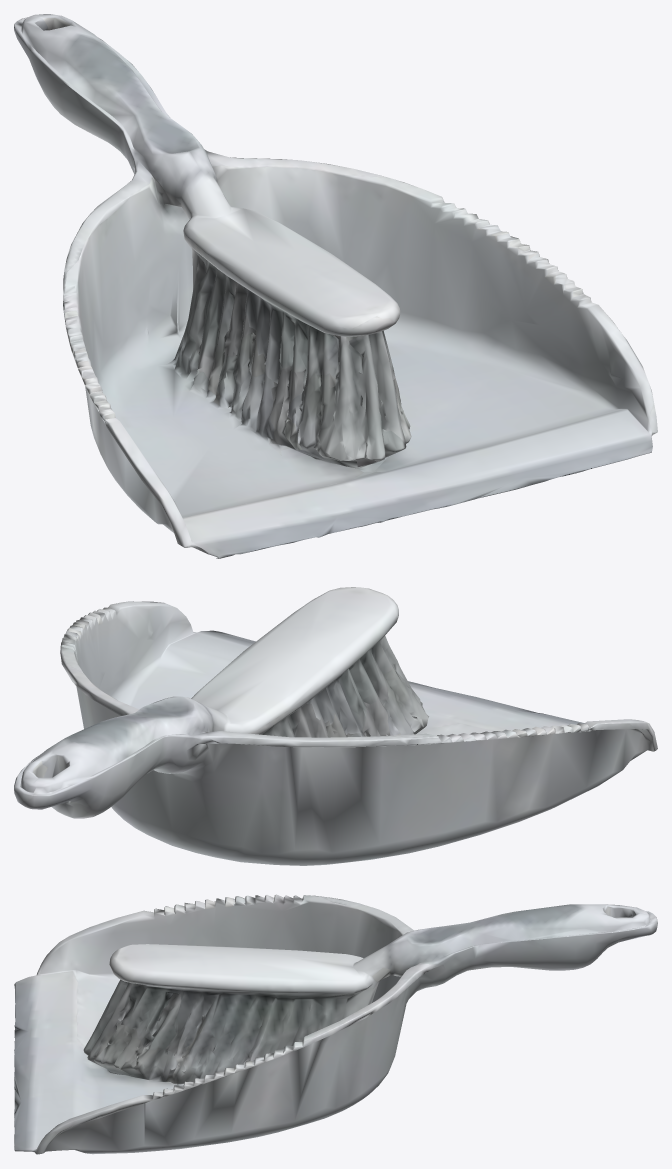
Rendered from Ocedar_Snap_On_Dust_Pan_And_Brush_1_ct-high.glb.
The picture shows the model from 3 angles, top to bottom: view 1: azimuth 30°, elevation 25°; view 2: azimuth 150°, elevation 25°; view 3: azimuth 270°, elevation 25°; orthographic projection. The views are drawn at different scales.
Visible parts, largest first — view 1: Ocedar_Snap_On_Dust_Pan_And_Brush_1_ct; view 2: Ocedar_Snap_On_Dust_Pan_And_Brush_1_ct; view 3: Ocedar_Snap_On_Dust_Pan_And_Brush_1_ct.
Part boxes in pixels (bbox=[...]): Ocedar_Snap_On_Dust_Pan_And_Brush_1_ct: bbox=[14, 14, 657, 558]; Ocedar_Snap_On_Dust_Pan_And_Brush_1_ct: bbox=[14, 587, 657, 865]; Ocedar_Snap_On_Dust_Pan_And_Brush_1_ct: bbox=[14, 894, 657, 1154].
Bounding box in the file's own units: 0.2308 × 0.0946 × 0.3307.
1 material, 1 textured.
